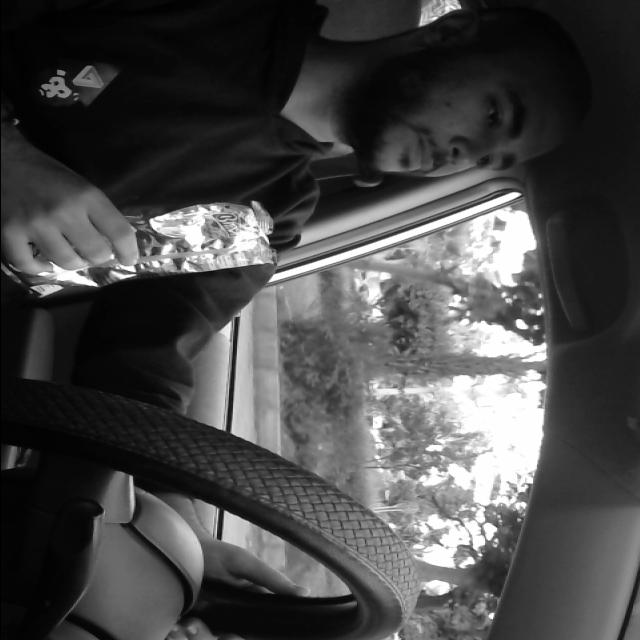eating: (0, 193, 281, 310)
